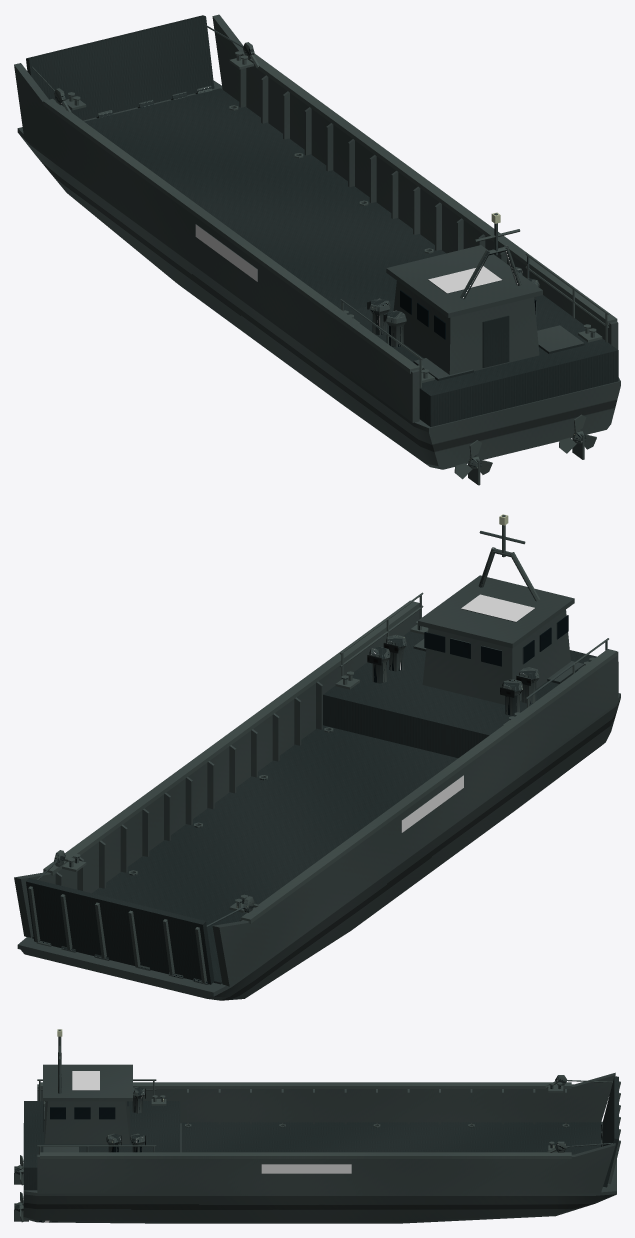
Rendered from landing_craft_lod2.glb.
3 views of the same model, one above another, from view 1: azimuth 30°, elevation 25°; view 2: azimuth 150°, elevation 25°; view 3: azimuth 270°, elevation 25° (orthographic). The views are drawn at different scales.
Visible parts, largest first — view 1: hull, deck, superstructure, bow_ramp, fittings, propulsion, mast; view 2: hull, deck, superstructure, bow_ramp, fittings, mast; view 3: hull, deck, superstructure, fittings, bow_ramp, propulsion.
Boxes of the visible parts, x1=… form: hull: x1=14, y1=14, x2=620, y2=469; deck: x1=84, y1=88, x2=618, y2=426; superstructure: x1=386, y1=245, x2=542, y2=374; bow_ramp: x1=26, y1=15, x2=214, y2=120; fittings: x1=54, y1=42, x2=608, y2=387; propulsion: x1=454, y1=414, x2=596, y2=485; mast: x1=460, y1=212, x2=521, y2=299; hull: x1=14, y1=600, x2=620, y2=1000; deck: x1=32, y1=631, x2=618, y2=984; superstructure: x1=418, y1=575, x2=574, y2=704; bow_ramp: x1=26, y1=878, x2=214, y2=984; fittings: x1=54, y1=592, x2=608, y2=912; mast: x1=478, y1=514, x2=539, y2=601; hull: x1=23, y1=1072, x2=616, y2=1223; deck: x1=24, y1=1101, x2=601, y2=1190; superstructure: x1=43, y1=1064, x2=132, y2=1144; fittings: x1=37, y1=1075, x2=567, y2=1154; bow_ramp: x1=602, y1=1076, x2=620, y2=1187; propulsion: x1=14, y1=1155, x2=28, y2=1222.
Size of the model in its own units: 6.56 by 7.14 by 22.94.
1 material, 1 textured.
